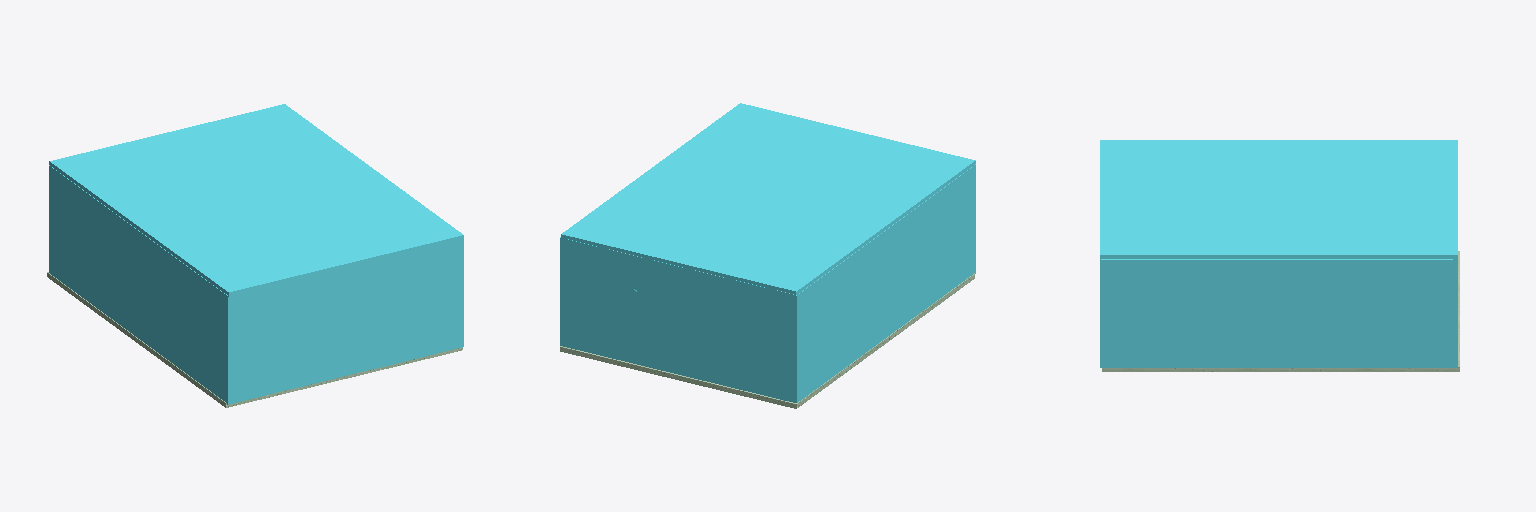
3 renders of one model, left to right at view 1: azimuth 30°, elevation 25°; view 2: azimuth 150°, elevation 25°; view 3: azimuth 270°, elevation 25°, orthographic.
Parts seen in each view (by area): view 1: polySurface178 polySurface223, polySurface178 polySurface222, polySurface224 polySurface178, polySurface178 polySurface225; view 2: polySurface178 polySurface223, polySurface178 polySurface227, polySurface224 polySurface178, polySurface178 polySurface225; view 3: polySurface178 polySurface223, polySurface178 polySurface226, polySurface178 polySurface225.
Boxes of the visible parts, <box> form: polySurface178 polySurface223: <box>49,104,463,296</box>; polySurface178 polySurface222: <box>225,240,463,404</box>; polySurface224 polySurface178: <box>49,165,224,400</box>; polySurface178 polySurface225: <box>47,272,462,407</box>; polySurface178 polySurface223: <box>561,103,975,294</box>; polySurface178 polySurface227: <box>560,237,795,402</box>; polySurface224 polySurface178: <box>796,167,972,402</box>; polySurface178 polySurface225: <box>560,273,974,408</box>; polySurface178 polySurface223: <box>1100,140,1457,258</box>; polySurface178 polySurface226: <box>1101,259,1453,367</box>; polySurface178 polySurface225: <box>1102,251,1459,371</box>.
Bounding box in the file's own units: 1.26 × 0.5884 × 1.65.
2 materials, 2 textured.